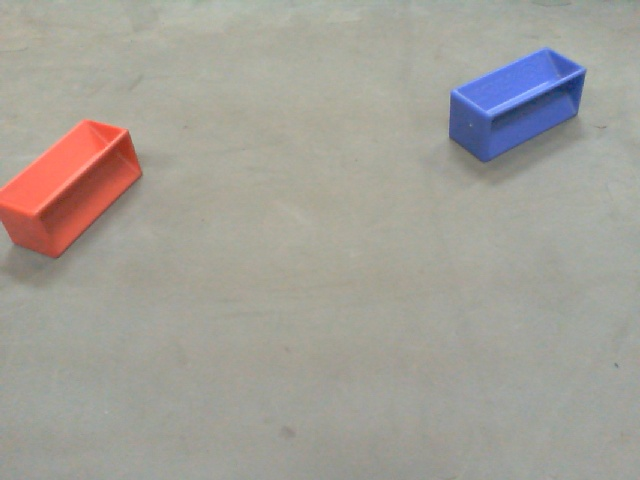BlueSample: (440, 45, 590, 164)
RedSample: (1, 116, 146, 257)
